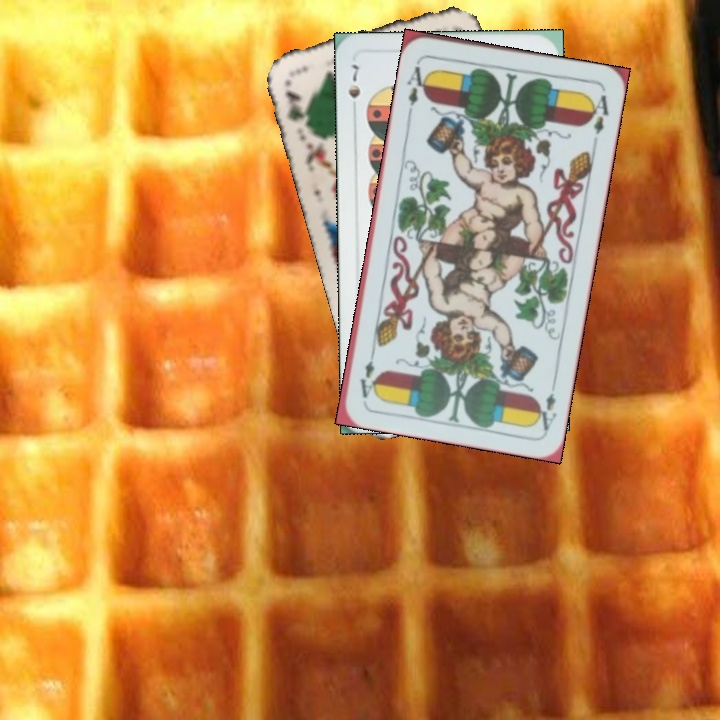EA: (403, 57, 432, 116), (531, 375, 559, 433)
GK: (280, 85, 314, 132)
S7: (344, 60, 363, 101)
